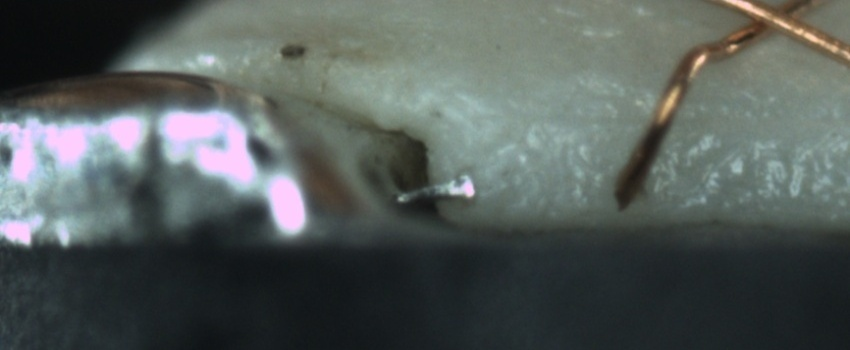CL: (731, 2, 820, 43)
DL: (504, 91, 849, 155)
